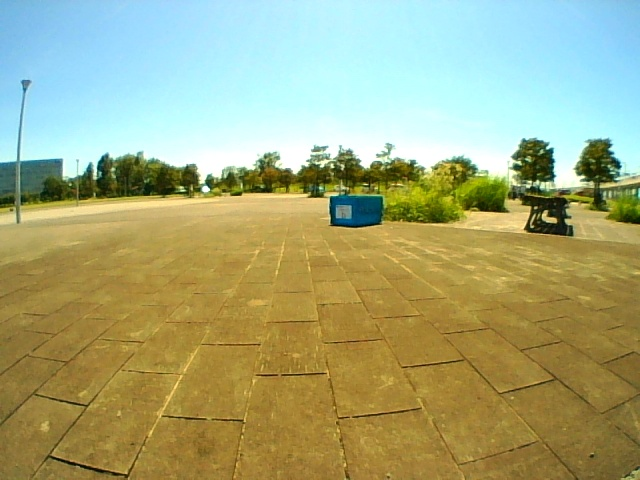blue_box: (330, 197, 381, 227)
tag_b: (336, 206, 350, 219)
